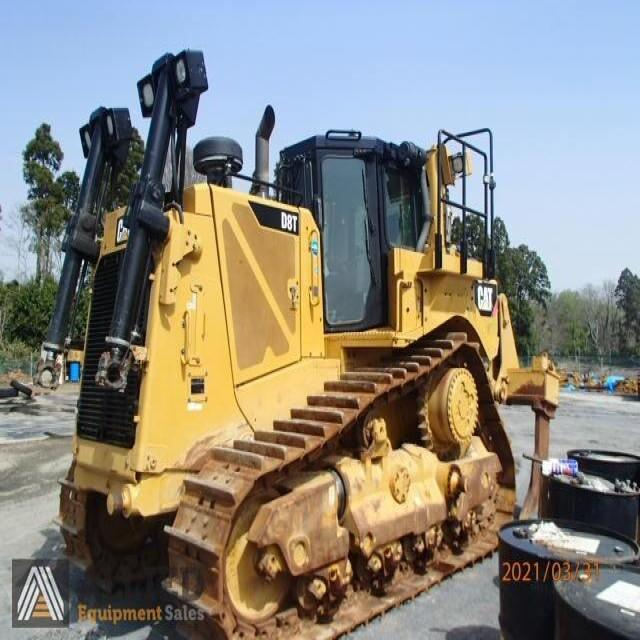buldozerpayloadergrader: (38, 40, 561, 632)
